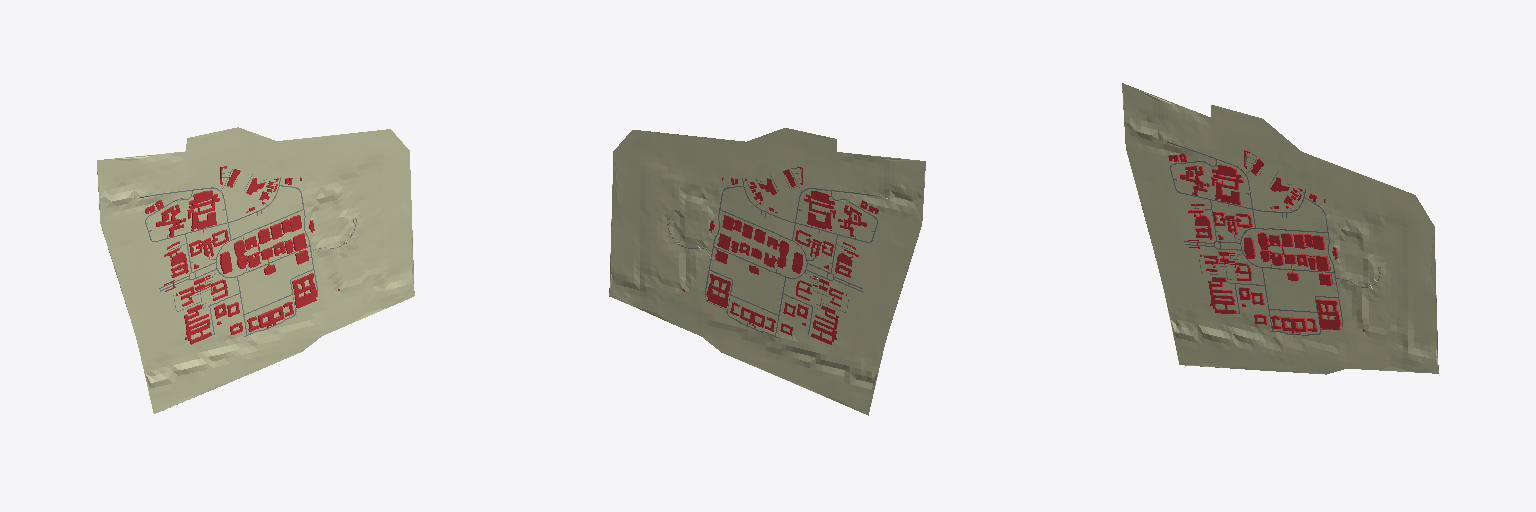
The model's file is obj275D_cput3d-str.obj.
3 renders of one model, left to right at view 1: azimuth 30°, elevation 25°; view 2: azimuth 150°, elevation 25°; view 3: azimuth 330°, elevation 25°, orthographic.
Visible parts, largest first — view 1: terrain01, [number redacted]; view 2: terrain01; view 3: terrain01, [number redacted].
Part boxes in pixels (bbox=[...]): terrain01: bbox=[97, 127, 414, 413]; [number redacted]: bbox=[292, 273, 317, 307]; terrain01: bbox=[609, 128, 925, 415]; terrain01: bbox=[1122, 83, 1438, 374]; [number redacted]: bbox=[1316, 299, 1341, 329].
Size of the model in its own units: 1389 by 1124 by 17.86.